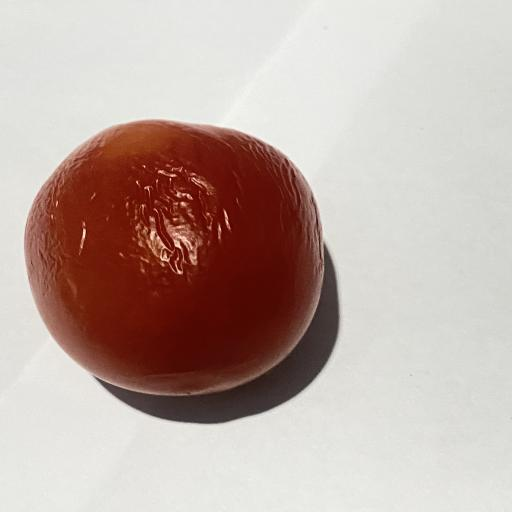spoiled: (24, 120, 324, 395)
